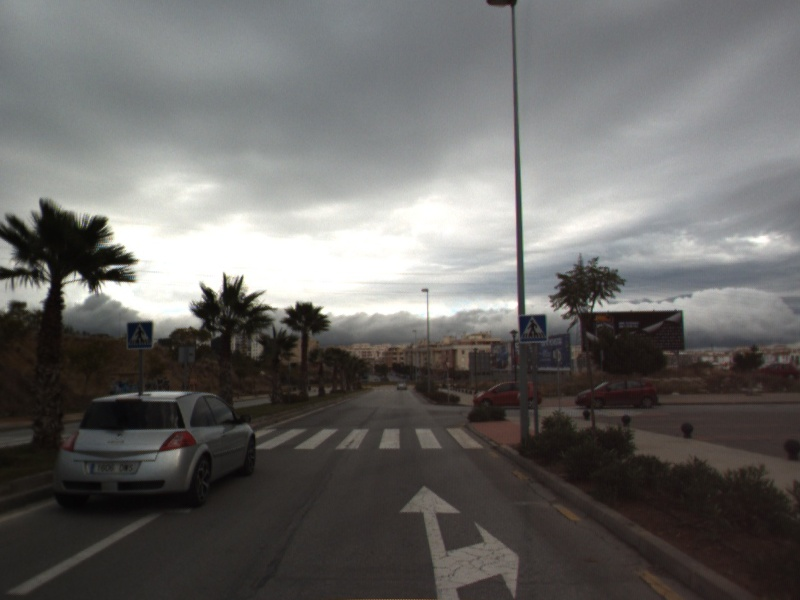STRAIGHT_RIGHT: (397, 483, 522, 600)
